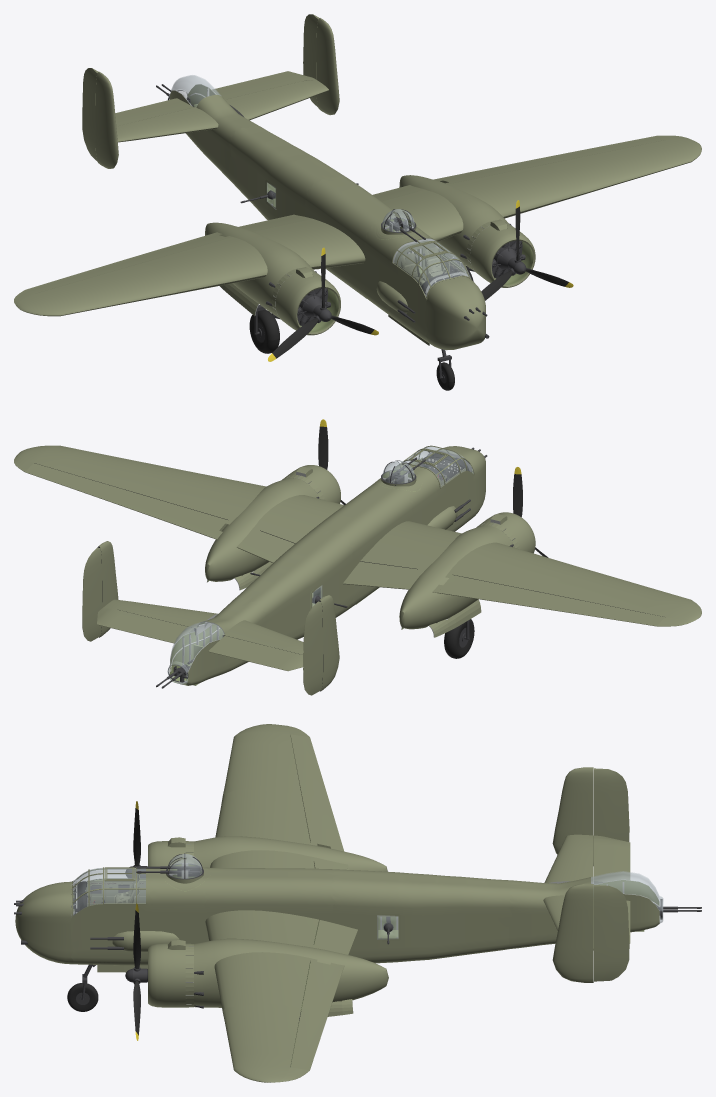
3 renders of one model, top to bottom at view 1: azimuth 30°, elevation 25°; view 2: azimuth 150°, elevation 25°; view 3: azimuth 270°, elevation 25°, orthographic. The views are drawn at different scales.
Visible parts, largest first — view 1: fus_rear, wing_tip_R, fus_center, wing_tip_L, wing_outer_R, wing_outer_L, fus_nose, fus_tail, wing_inner_R, engine_R, engine_L, nacelle_R (+23 smaller); view 2: fus_rear, wing_tip_R, fus_center, nacelle_R, fus_tail, wing_outer_R, wing_tip_L, nacelle_L, wing_outer_L, wing_inner_R, wing_inner_L, flap_outer_R (+27 smaller); view 3: fus_rear, fus_center, fus_tail, wing_tip_L, nacelle_L, wing_outer_L, wing_tip_R, wing_outer_R, fus_cockpit, fus_nose, fus_forward, fin_L (+22 smaller).
Boxes of the visible parts, <box> form: fus_rear: <box>229,125,346,220</box>; wing_tip_R: <box>14,262,179,316</box>; fus_center: <box>305,175,411,298</box>; wing_tip_L: <box>546,135,701,194</box>; wing_outer_R: <box>144,232,267,293</box>; wing_outer_L: <box>433,164,585,218</box>; fus_nose: <box>425,275,485,350</box>; fus_tail: <box>167,75,260,181</box>; wing_inner_R: <box>239,218,365,269</box>; engine_R: <box>275,267,340,335</box>; engine_L: <box>468,219,535,287</box>; nacelle_R: <box>205,222,314,316</box>; fus_rear: <box>234,528,354,639</box>; wing_tip_R: <box>546,568,701,626</box>; fus_center: <box>311,483,413,607</box>; nacelle_R: <box>399,525,514,629</box>; fus_tail: <box>167,598,266,685</box>; wing_outer_R: <box>432,542,581,593</box>; wing_tip_L: <box>14,445,173,494</box>; nacelle_L: <box>205,478,319,581</box>; wing_outer_L: <box>143,468,265,539</box>; wing_inner_R: <box>360,521,461,589</box>; wing_inner_L: <box>237,495,344,549</box>; flap_outer_R: <box>437,575,546,607</box>; fus_rear: <box>331,869,512,963</box>; fus_center: <box>204,867,335,941</box>; fus_tail: <box>509,871,663,948</box>; wing_tip_L: <box>223,1003,309,1082</box>; nacelle_L: <box>193,938,388,1007</box>; wing_outer_L: <box>214,952,344,1011</box>; wing_tip_R: <box>223,724,309,795</box>; wing_outer_R: <box>215,789,344,851</box>; fus_cockpit: <box>70,868,154,965</box>; fus_nose: <box>15,881,74,964</box>; fus_forward: <box>150,867,210,943</box>; fin_L: <box>552,883,593,982</box>.
Size of the model in its own units: 20.6 by 4.98 by 16.72.
